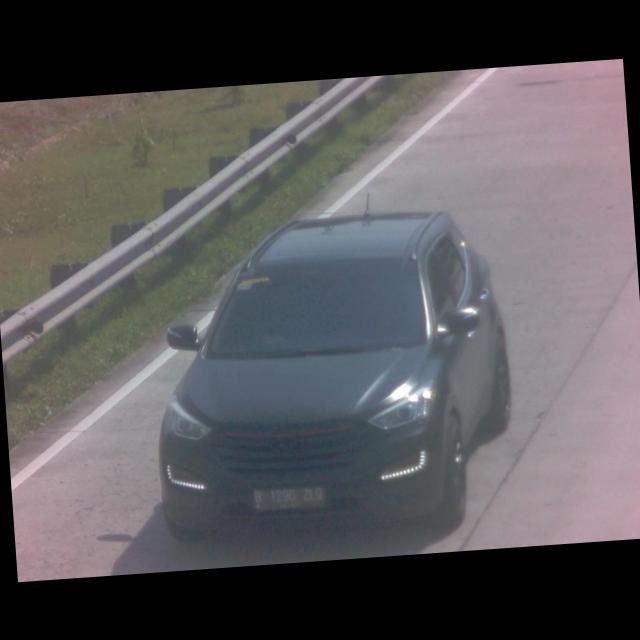plate: (250, 478, 328, 514)
